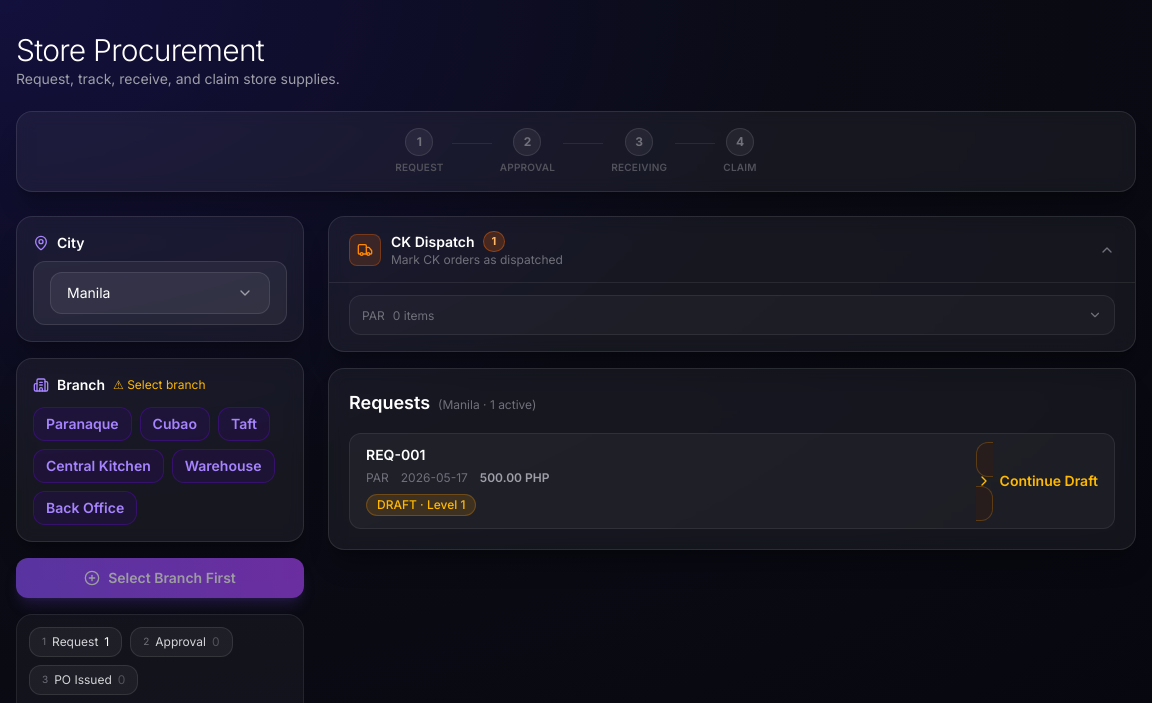
Fix 1: English success message after submit for approval › shows English success banner (not Japanese) after submission
This screenshot has width=1152, height=703.
# Open drawer
Click the text "REQ-001" at (396, 455), box [366,446,425,464]
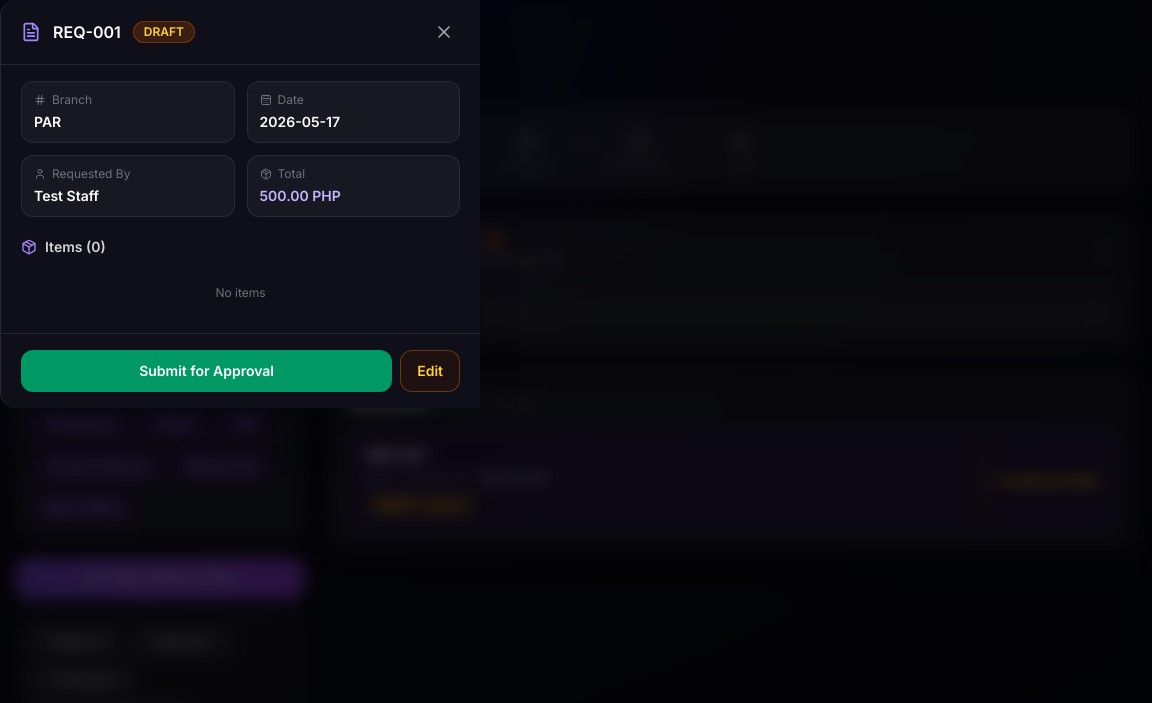
Check: the text "Test Staff" is shown, box [34,187,99,204]
Click the button "Submit for Approval" at (207, 371), box [21,350,392,392]
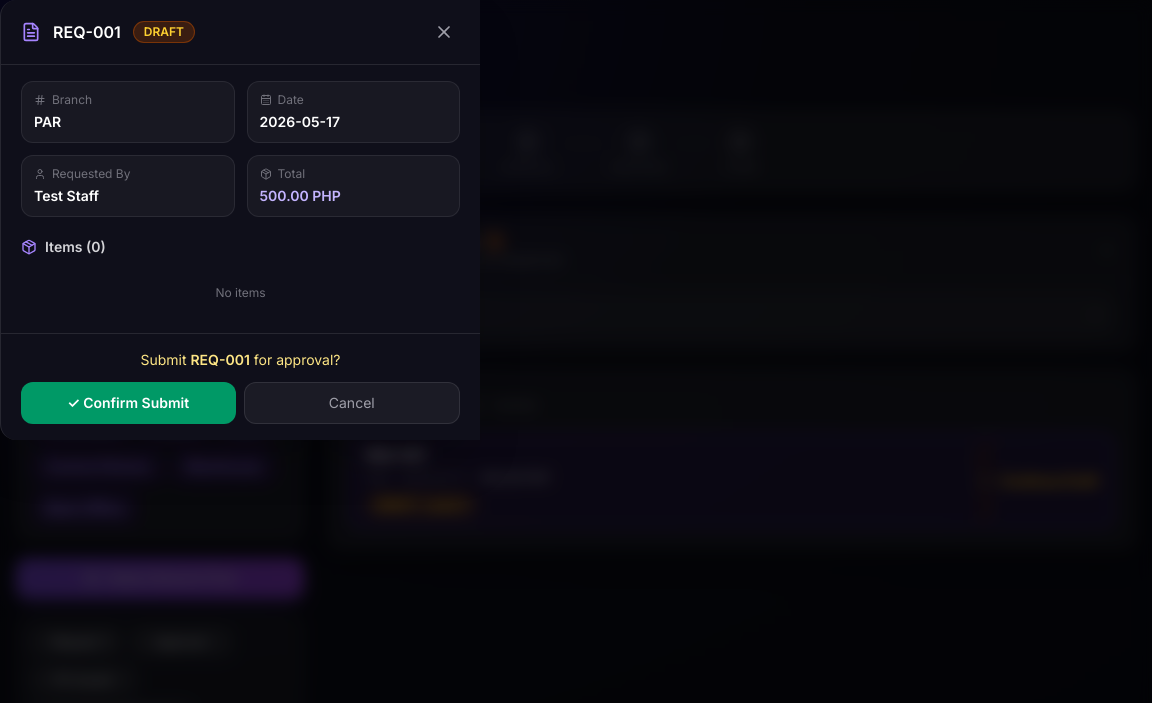
# Confirm second step if needed
Click the button "✓ Confirm Submit" at (128, 403), box [21,382,236,424]
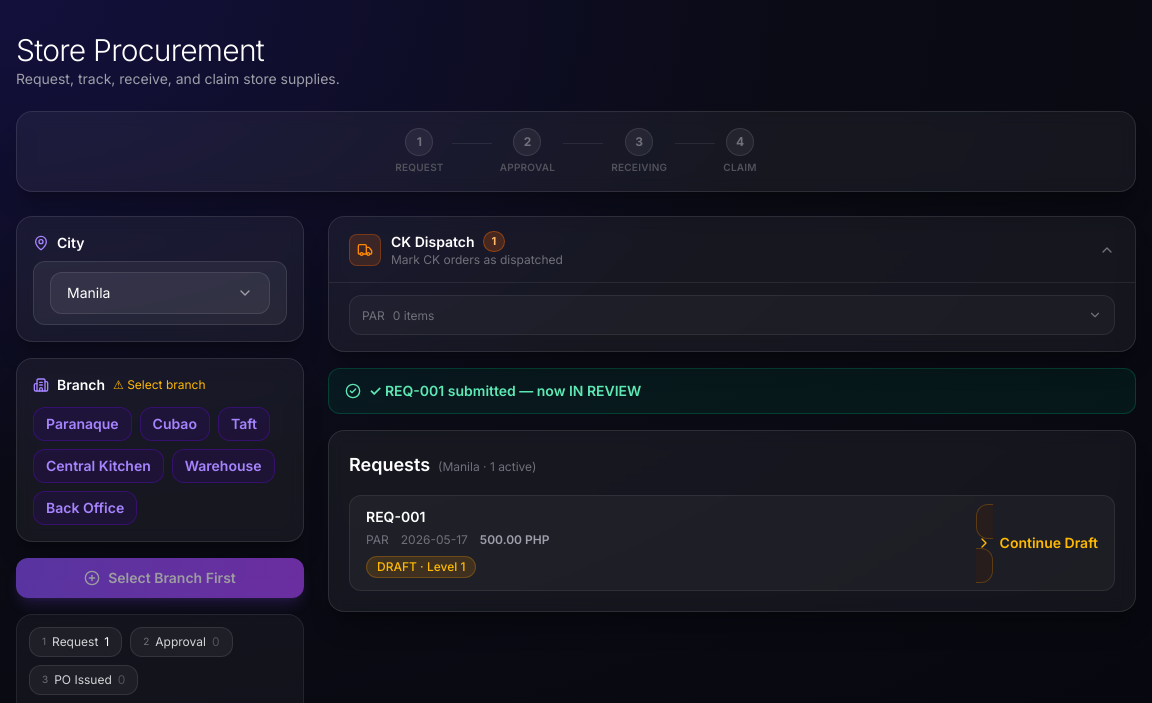
Check: the text "✓ REQ-001 submitted — now IN REVIEW" is shown, box [328,368,1136,414]
